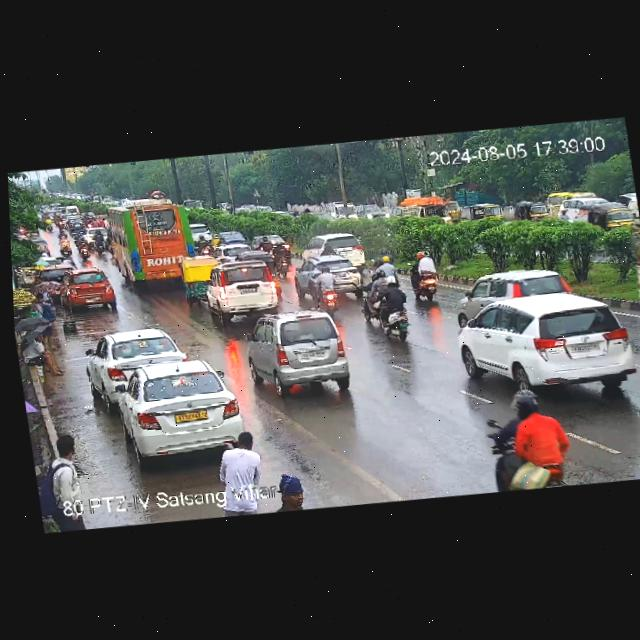bus: (101, 192, 205, 292)
car: (453, 288, 640, 403), (111, 353, 245, 460), (239, 303, 357, 399), (83, 324, 185, 394), (448, 263, 571, 313), (200, 254, 284, 322), (288, 252, 369, 303), (298, 224, 371, 279), (58, 267, 119, 312), (178, 253, 224, 305), (585, 200, 639, 234), (508, 195, 551, 224), (210, 239, 256, 263), (466, 198, 504, 226)
motorcycle: (477, 394, 578, 493), (374, 277, 414, 339), (405, 248, 449, 302), (312, 266, 343, 308), (367, 252, 402, 287), (269, 234, 292, 282), (57, 231, 72, 261), (77, 235, 92, 260), (94, 229, 107, 257), (259, 234, 276, 254), (38, 212, 53, 233), (53, 212, 65, 229)
person: (38, 431, 93, 498), (16, 330, 70, 383), (220, 424, 264, 489), (29, 289, 59, 353)
